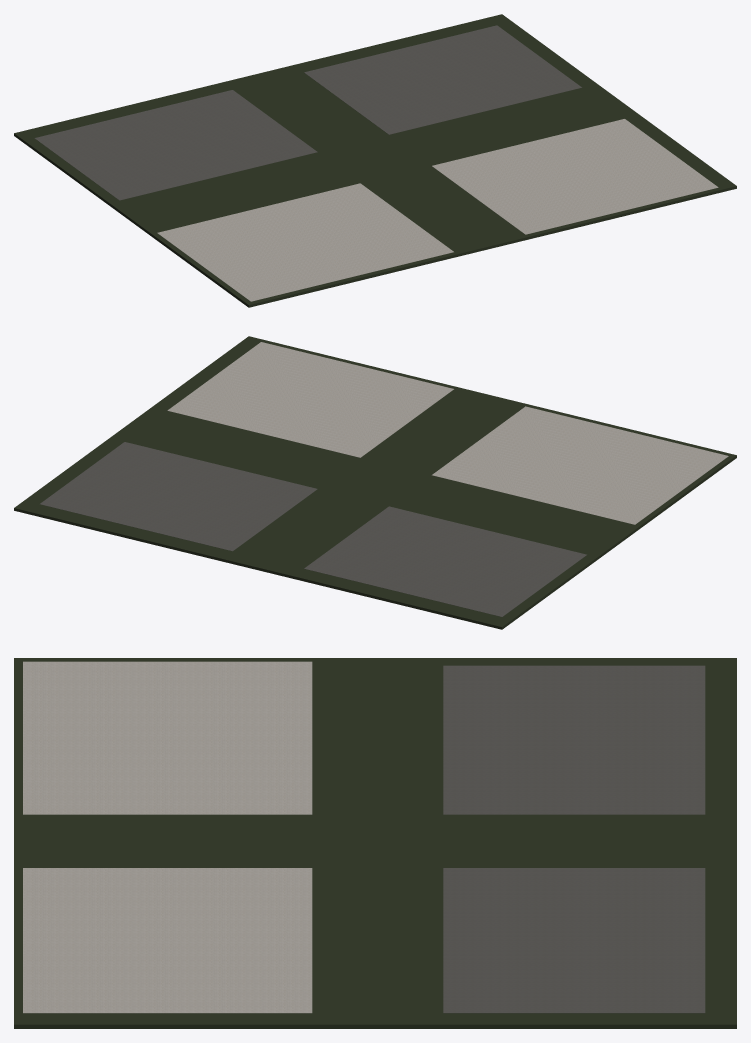
File: city_ground.obj
3 views of the same model, one above another, from view 1: azimuth 30°, elevation 25°; view 2: azimuth 150°, elevation 25°; view 3: azimuth 270°, elevation 25° (orthographic). The views are drawn at different scales.
Visible parts, largest first — view 1: Soil, Sidewalk, Asphalt; view 2: Soil, Sidewalk, Asphalt; view 3: Soil, Sidewalk, Asphalt.
Part boxes in pixels (<box>): Soil: <box>14,14,736,307</box>; Sidewalk: <box>157,119,718,301</box>; Asphalt: <box>34,25,581,200</box>; Soil: <box>14,336,736,629</box>; Sidewalk: <box>167,342,728,524</box>; Asphalt: <box>40,442,586,616</box>; Soil: <box>14,658,736,1028</box>; Sidewalk: <box>23,661,312,1013</box>; Asphalt: <box>443,665,705,1013</box>.
Bounding box in the file's own units: 192 × 1.05 × 160.
